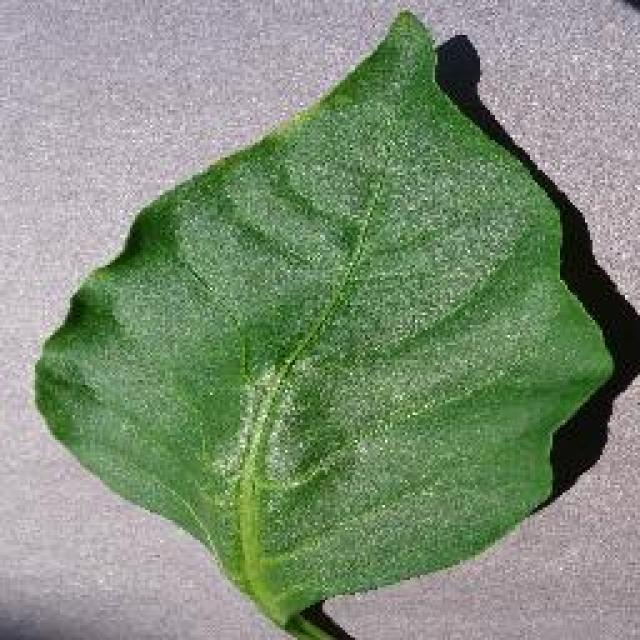Chilli_Healthy: (30, 8, 615, 638)
